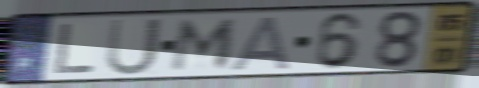6: (314, 10, 363, 72)
8: (371, 9, 424, 70)
A: (229, 14, 295, 73)
L: (51, 22, 97, 76)
M: (167, 18, 241, 73)
U: (104, 16, 164, 77)
